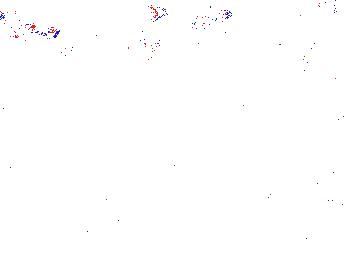glassfish: (134, 122, 190, 193), (123, 204, 179, 232)
redtail glassfish: (141, 27, 228, 58), (147, 3, 234, 25), (55, 39, 135, 61), (1, 10, 61, 39)
